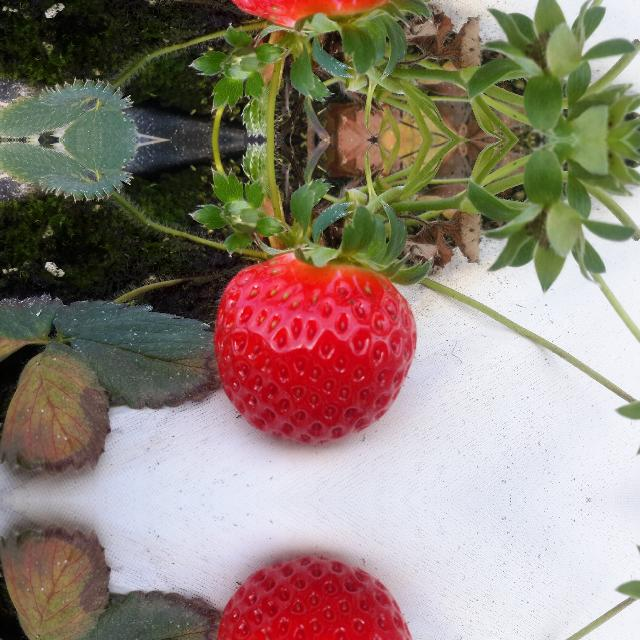Health_100: (214, 252, 416, 442), (214, 557, 416, 640)
